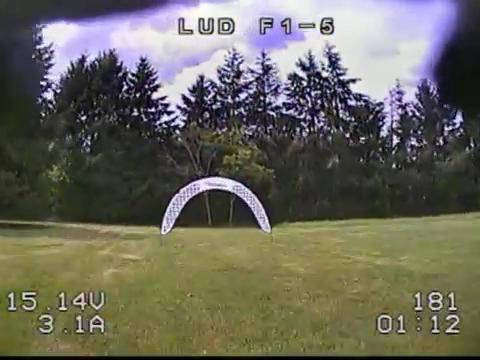gate: (160, 176, 271, 234)
